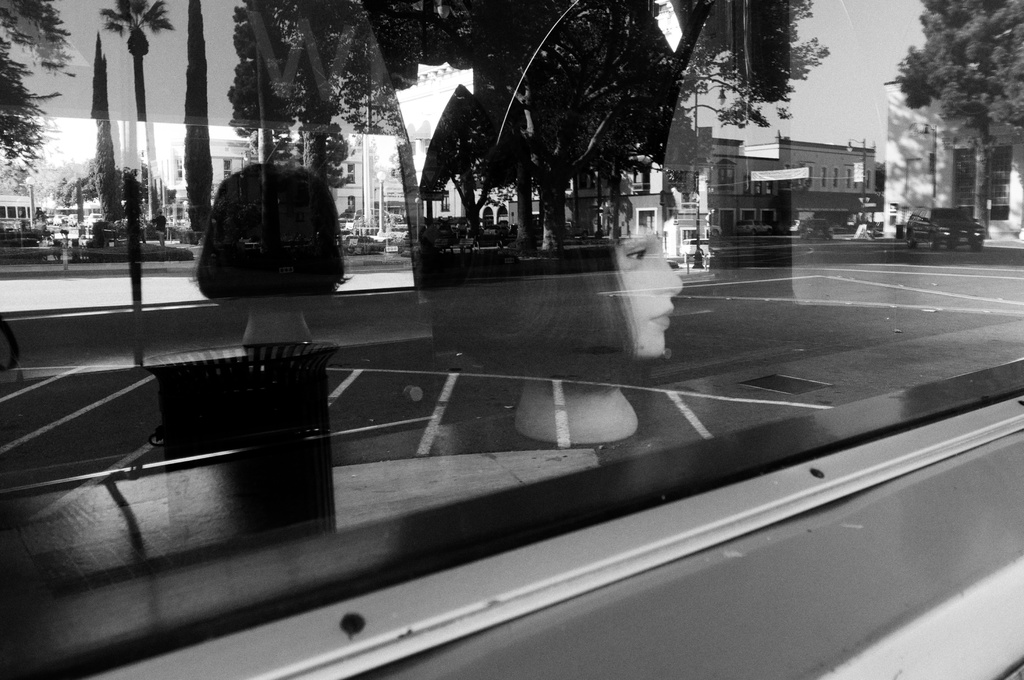Car: (904, 206, 984, 249), (341, 231, 389, 256)
